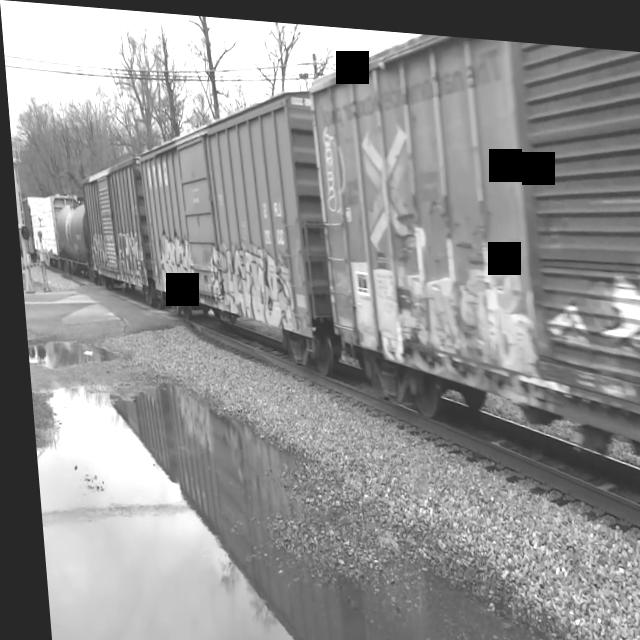boxcar: (298, 19, 640, 484), (126, 63, 325, 369), (76, 148, 146, 307)
tank: (48, 197, 87, 278)
